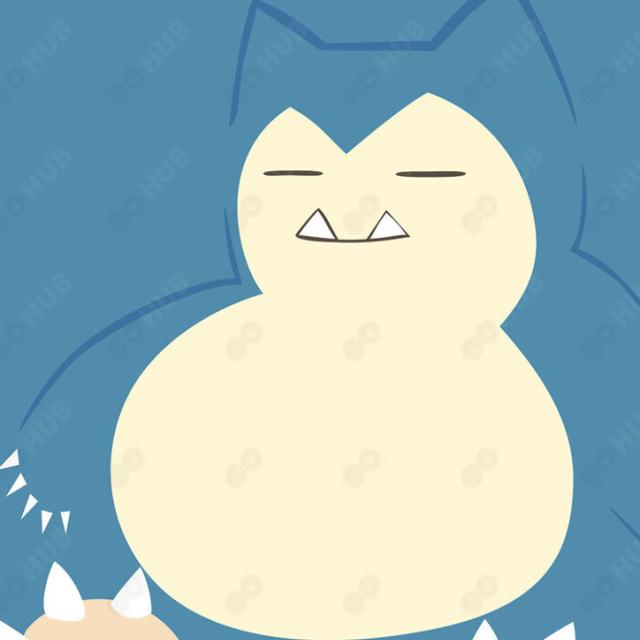Snorlax: (172, 40, 640, 640)
